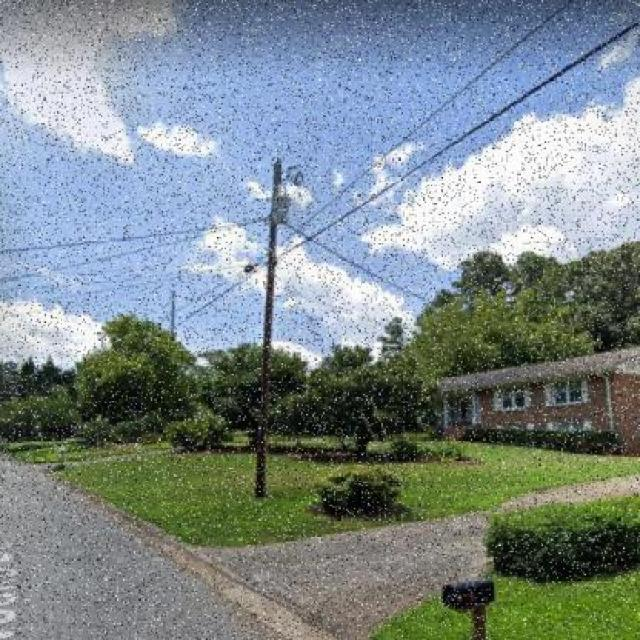pole: (215, 134, 332, 514)
